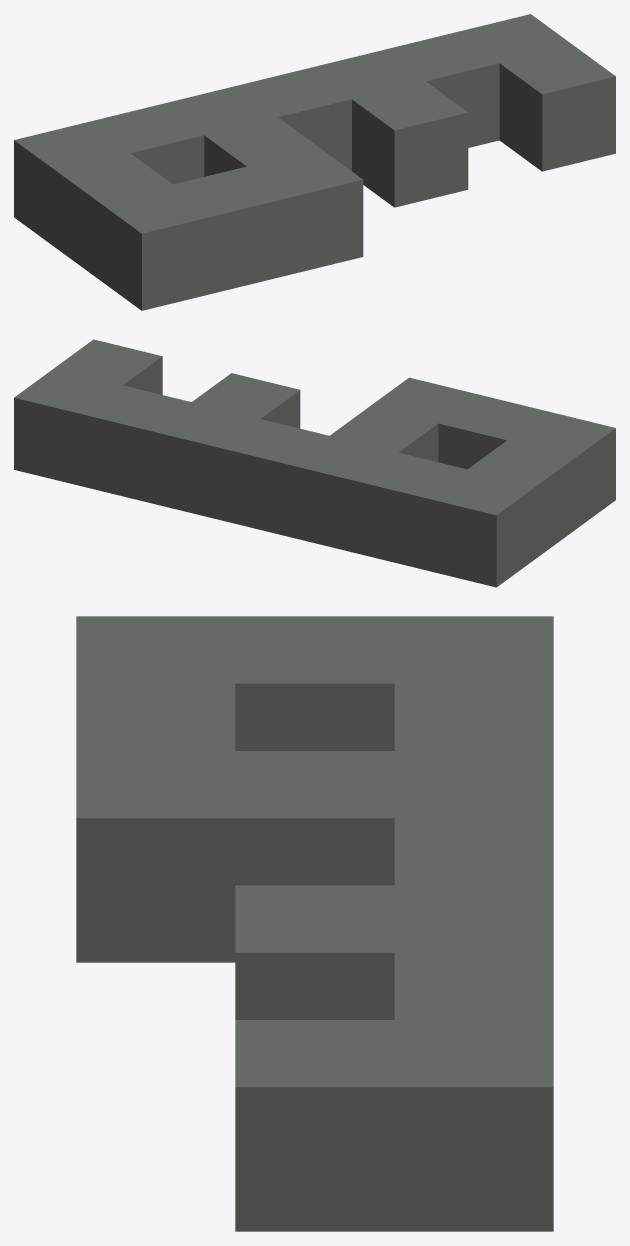
File: key.obj
3 renders of one model, top to bottom at view 1: azimuth 30°, elevation 25°; view 2: azimuth 150°, elevation 25°; view 3: azimuth 270°, elevation 25°, orthographic. The views are drawn at different scales.
Size of the model in its own units: 0.7 by 0.1 by 0.3.
Materials: 1 (1 with a texture image).
